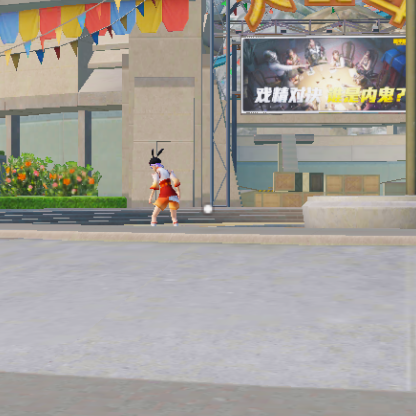ren: (147, 155, 179, 227)
tou: (149, 157, 163, 169)
